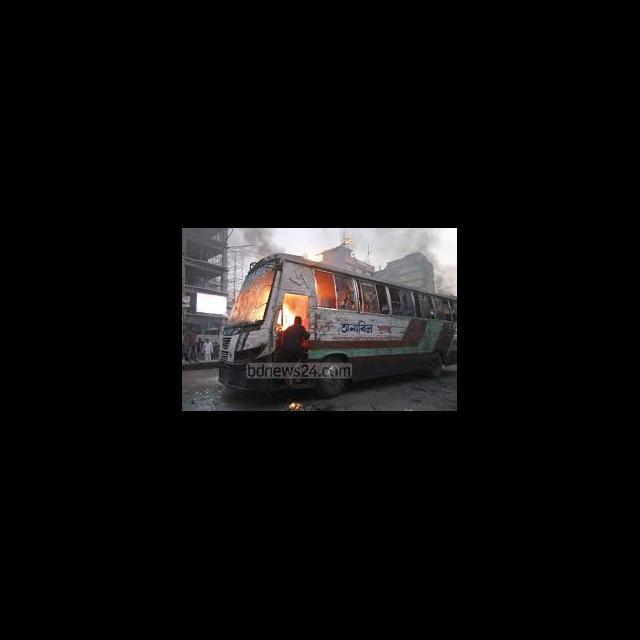Fire: (277, 303, 296, 328)
Smoke: (386, 230, 456, 254), (242, 230, 292, 252), (438, 256, 457, 292)
